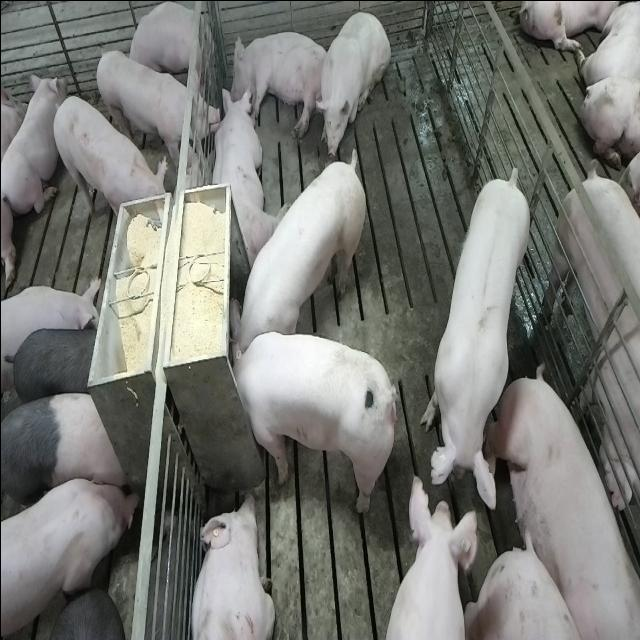Feeding: (228, 327, 398, 520), (222, 141, 369, 347)
Lateral_lying: (226, 27, 326, 133)
Sitting: (314, 7, 391, 162)
Standing: (418, 160, 532, 509), (542, 155, 640, 517), (0, 472, 138, 638), (380, 472, 483, 640), (52, 91, 171, 220), (94, 42, 218, 162), (0, 392, 126, 502), (3, 320, 118, 409), (0, 264, 101, 342)
Sternal_lying: (487, 362, 640, 640), (191, 484, 278, 640), (211, 88, 288, 262), (0, 61, 67, 216), (125, 0, 212, 84)
